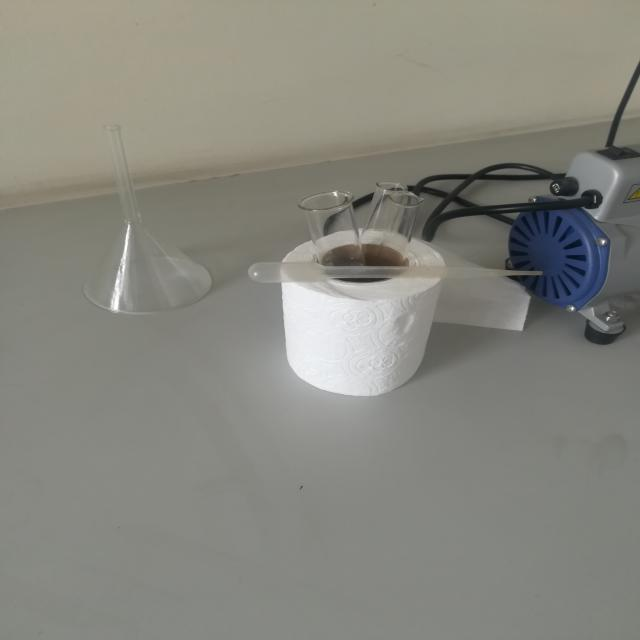Funnel: (67, 94, 232, 332)
Pipette: (248, 246, 562, 319)
